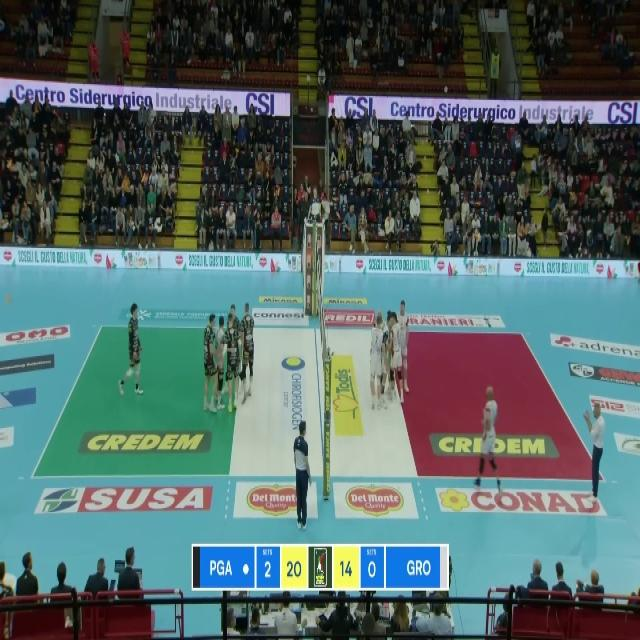volleyball court: (33, 327, 602, 480)
